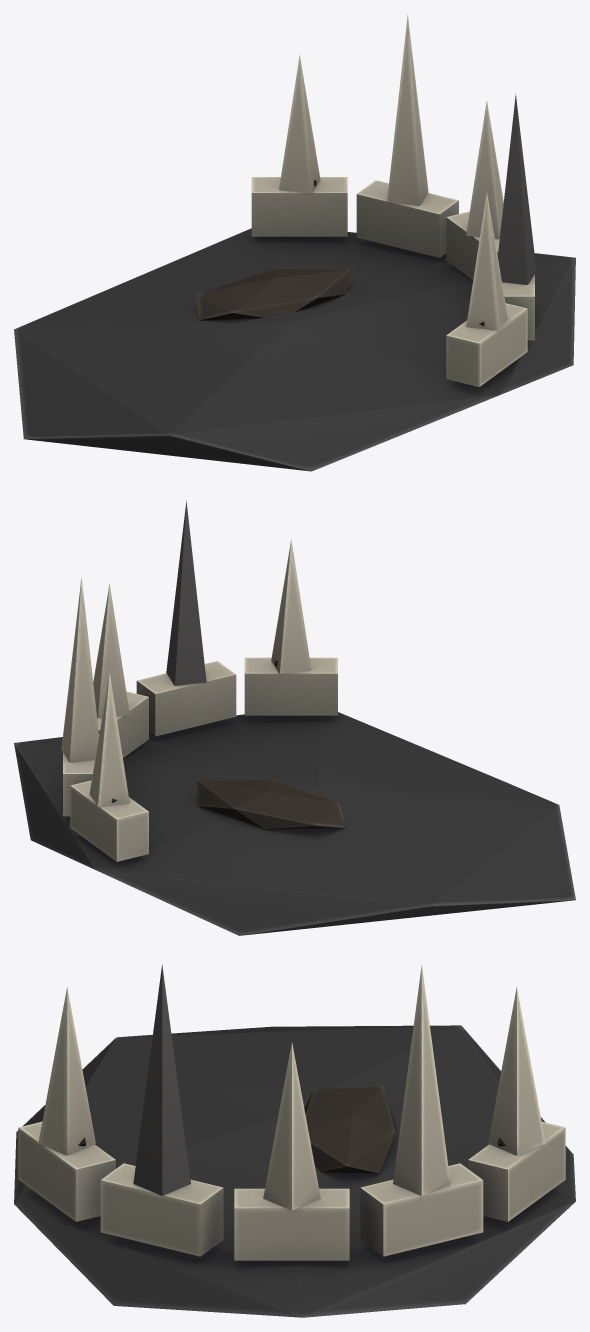
The model's file is sign_vessel_crown.glb.
3 views of the same model, one above another, from view 1: azimuth 30°, elevation 25°; view 2: azimuth 150°, elevation 25°; view 3: azimuth 270°, elevation 25° (orthographic). The views are drawn at different scales.
Visible parts, largest first — view 1: sign_vessel_crown; view 2: sign_vessel_crown; view 3: sign_vessel_crown.
Part boxes in pixels (left/top/right/bottom): sign_vessel_crown: left=14, top=14, right=575, bottom=471; sign_vessel_crown: left=14, top=500, right=575, bottom=935; sign_vessel_crown: left=14, top=964, right=575, bottom=1317.
Size of the model in its own units: 1.36 by 0.6585 by 0.9742.
1 material, 1 textured.
